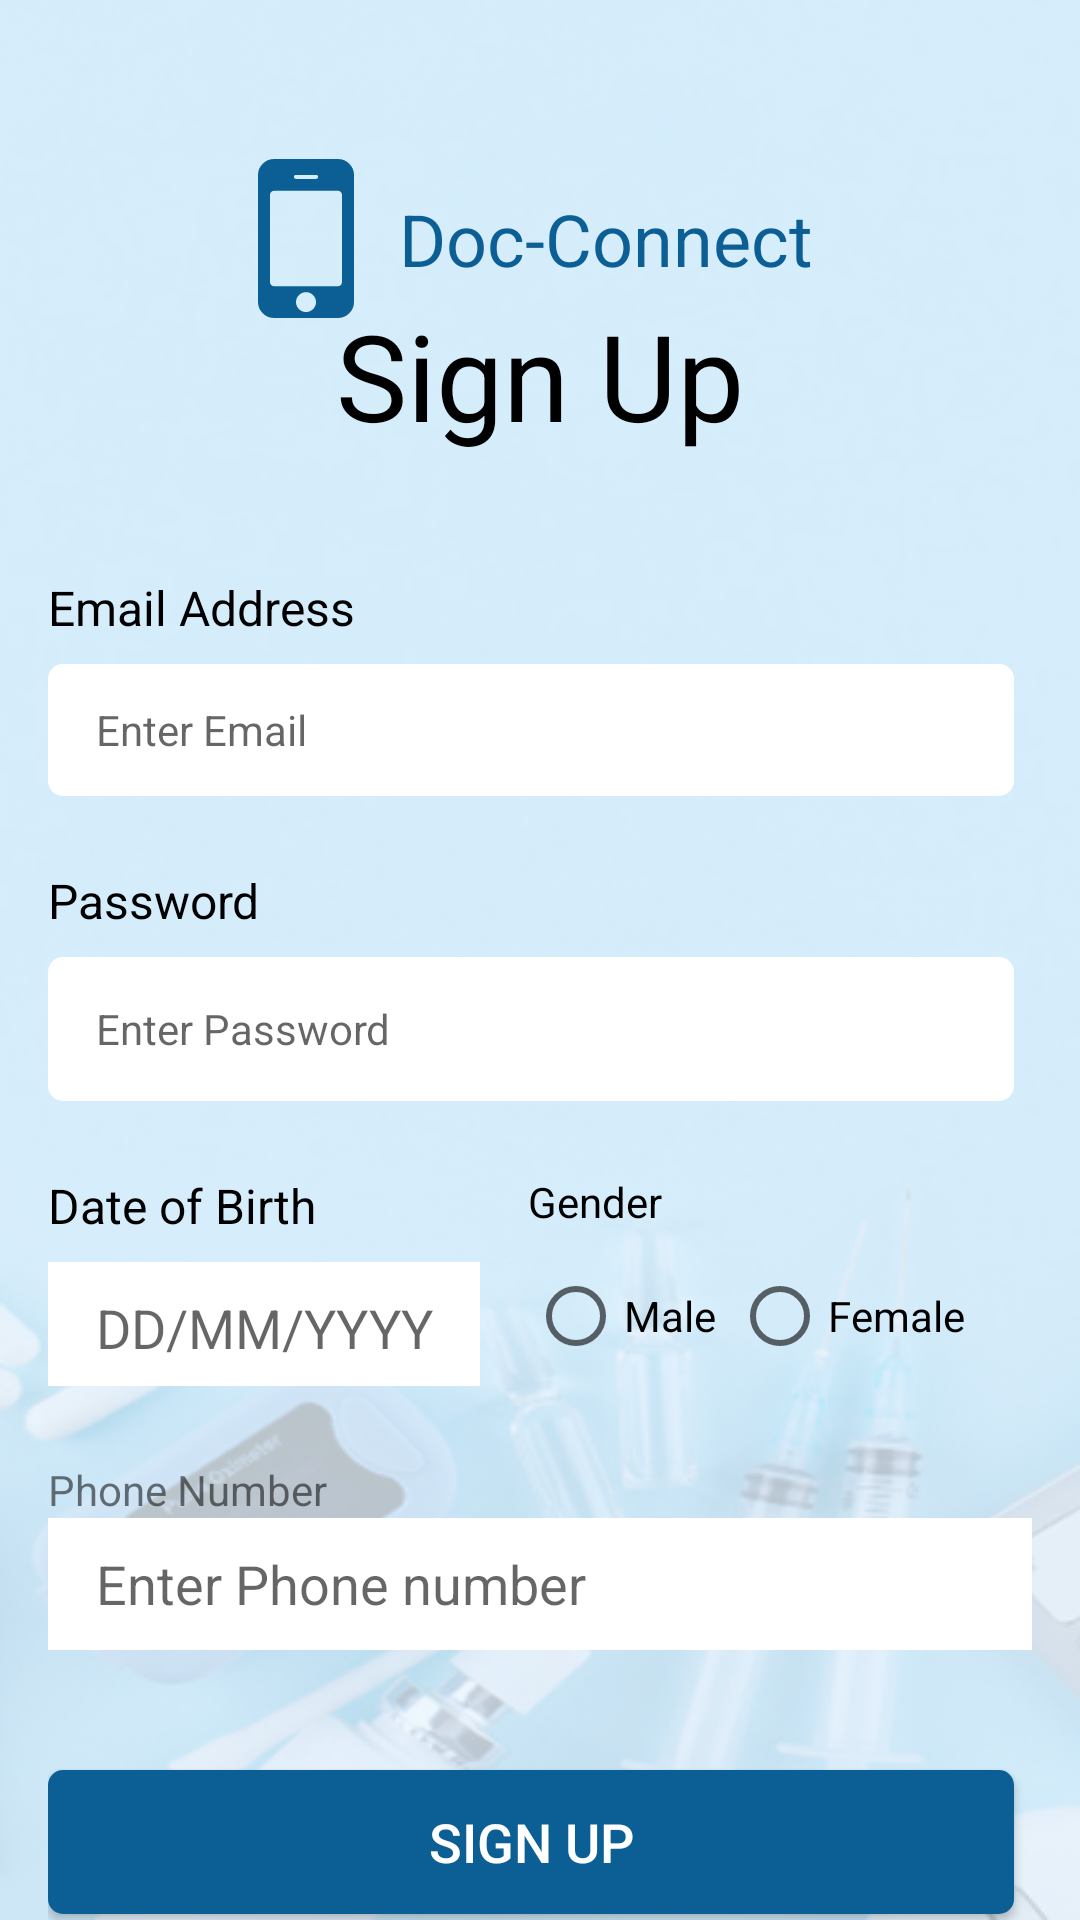

Named icons in this screenshot (1080 x 1920) and their centers, (x=x, y=y):
mobile: (x=306, y=238)
